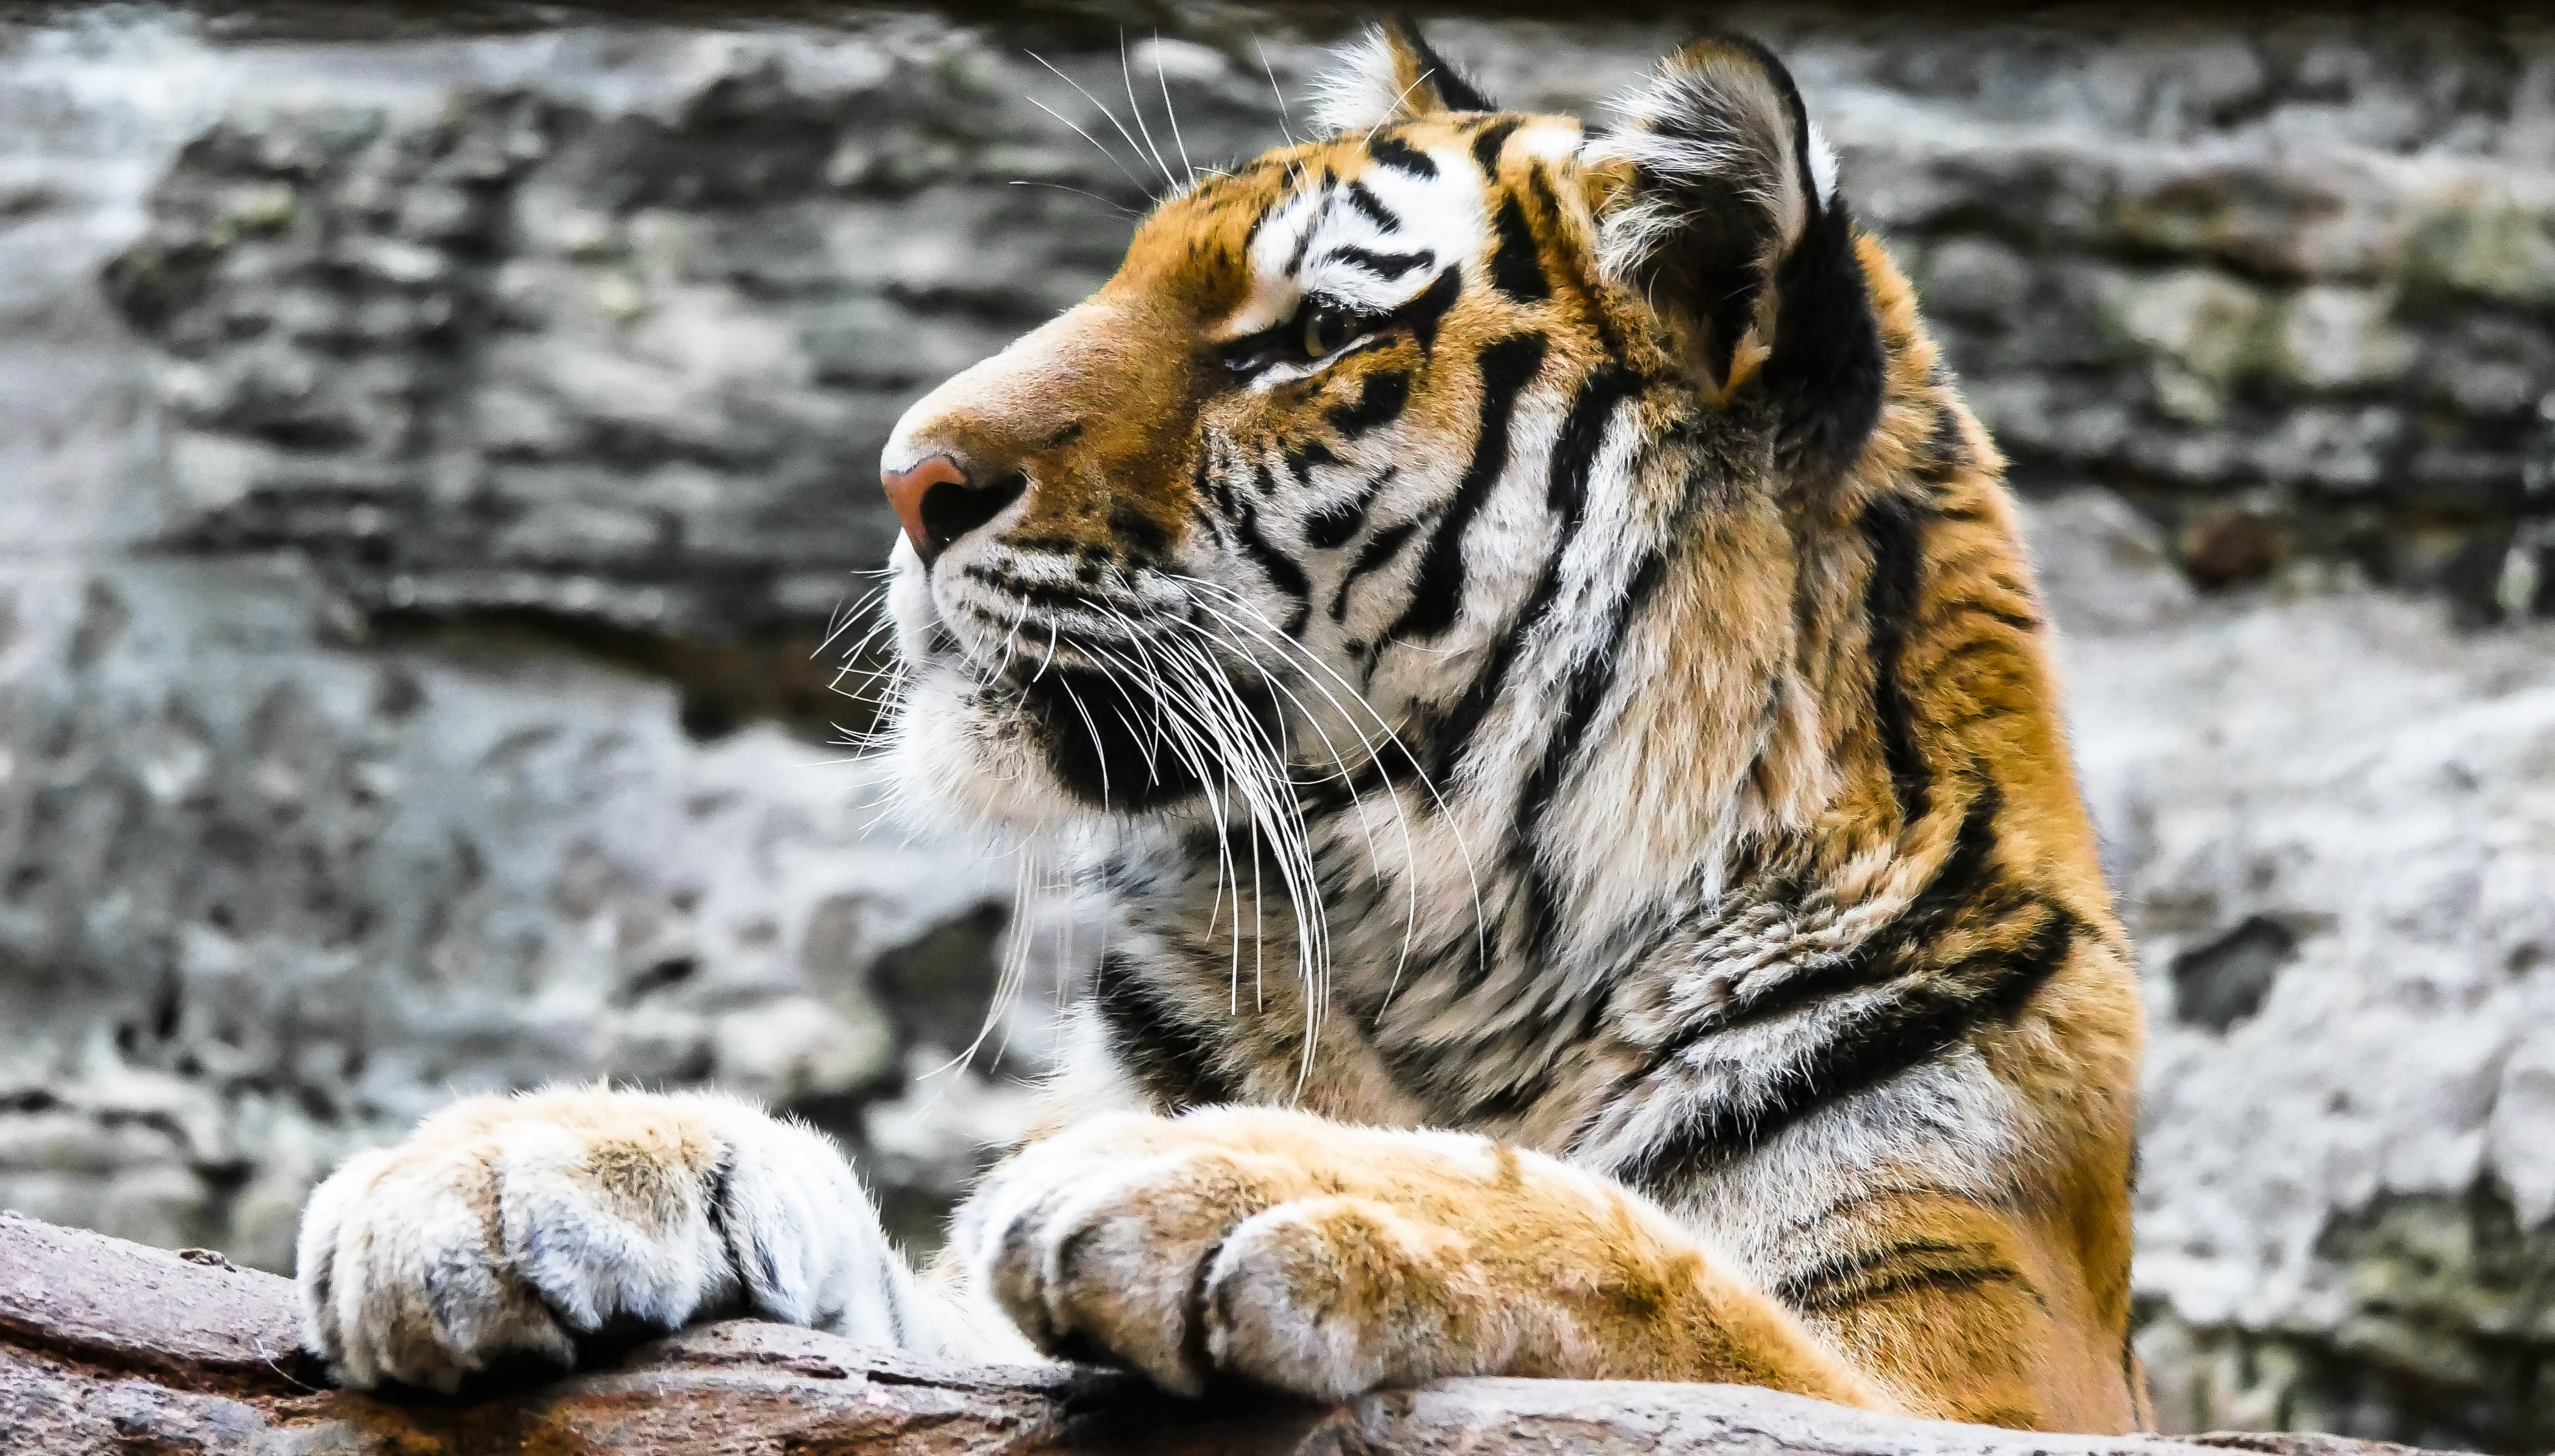tiger: (669, 21, 2202, 1398)
